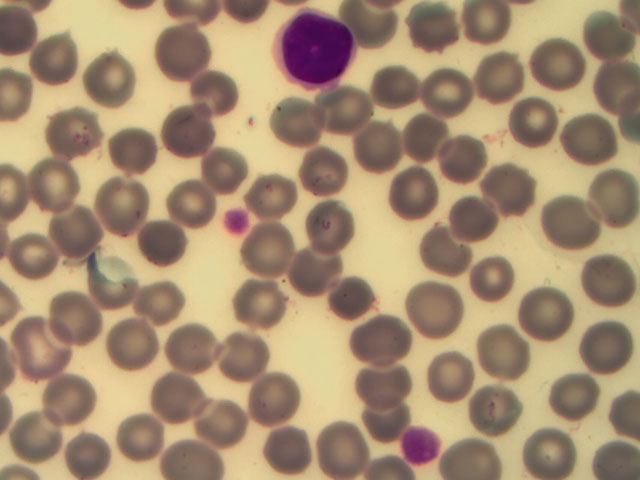Platelets: (402, 426, 445, 463), (224, 205, 250, 231)
RBC: (29, 34, 87, 89), (81, 53, 139, 108), (43, 106, 101, 161), (107, 121, 165, 176), (95, 171, 153, 226), (55, 204, 113, 259), (23, 151, 81, 206), (12, 226, 70, 281), (46, 288, 104, 343), (13, 324, 71, 379), (75, 264, 133, 319), (129, 273, 187, 328), (135, 213, 193, 268), (158, 182, 216, 237), (206, 139, 264, 194), (160, 105, 218, 160), (178, 74, 236, 129), (162, 31, 220, 86), (256, 172, 314, 227), (244, 227, 302, 282), (227, 273, 285, 328), (173, 320, 231, 375), (220, 320, 278, 375), (244, 373, 302, 428), (199, 396, 257, 451), (258, 419, 316, 474), (161, 425, 219, 480), (116, 405, 174, 460), (149, 368, 207, 423), (49, 371, 107, 426), (15, 411, 73, 466), (64, 422, 122, 477), (314, 422, 372, 477), (356, 390, 414, 445), (356, 353, 414, 408), (352, 320, 410, 375), (329, 273, 387, 328), (287, 253, 345, 308), (299, 206, 357, 261), (296, 145, 354, 200), (271, 99, 329, 154), (305, 82, 363, 137), (355, 117, 413, 172), (399, 111, 457, 166), (370, 64, 428, 119), (417, 64, 475, 119), (434, 117, 492, 172), (387, 163, 445, 218), (447, 190, 505, 245), (476, 162, 534, 217), (499, 93, 557, 148), (482, 54, 540, 109), (529, 40, 587, 95), (578, 8, 636, 63), (582, 60, 640, 115), (557, 106, 615, 161), (582, 173, 640, 228), (543, 192, 601, 247), (459, 249, 517, 304), (415, 229, 473, 284), (407, 284, 465, 339), (475, 324, 533, 379), (412, 344, 470, 399), (463, 374, 521, 429), (525, 425, 583, 480), (544, 371, 602, 426), (580, 313, 638, 368), (514, 283, 572, 338), (574, 253, 632, 308), (595, 436, 640, 480), (454, 436, 499, 480)
WBC: (268, 9, 356, 88)
